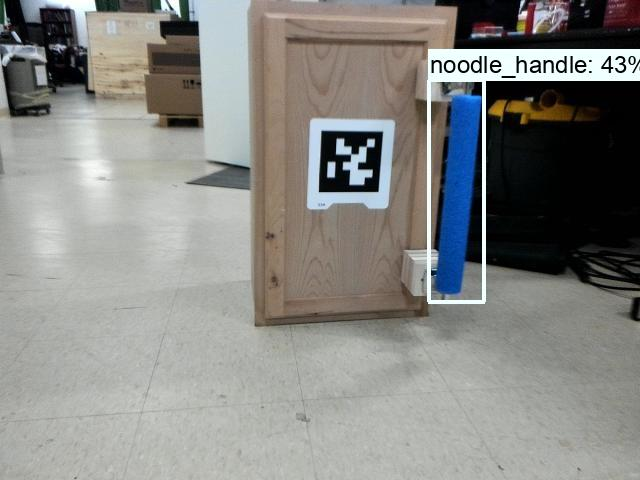noodle_handle: (431, 82, 484, 298)
